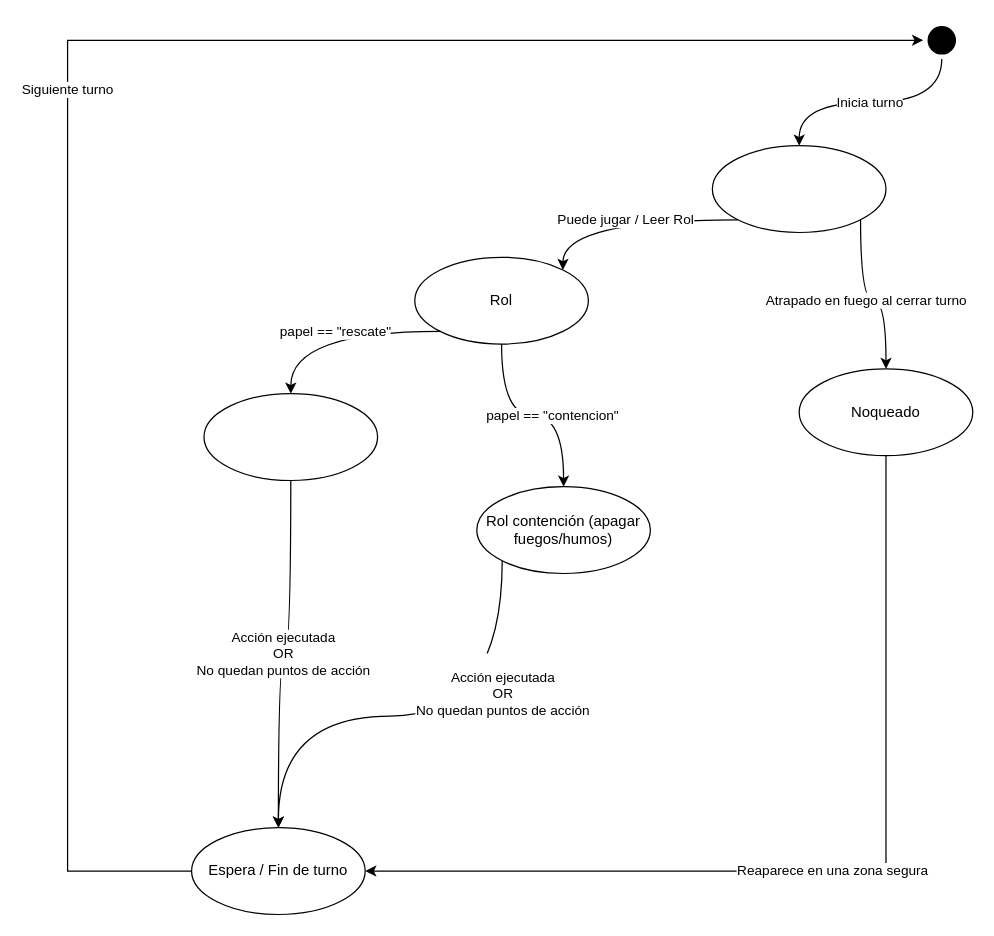
This 994x936 diagram has some shape labels left out. The centre of each missing label's shape, as x and y in pixels:
"Evaluando" belongs at (798,188).
"Rol Rescatista (pathing a victima)" belongs at (290,436).
